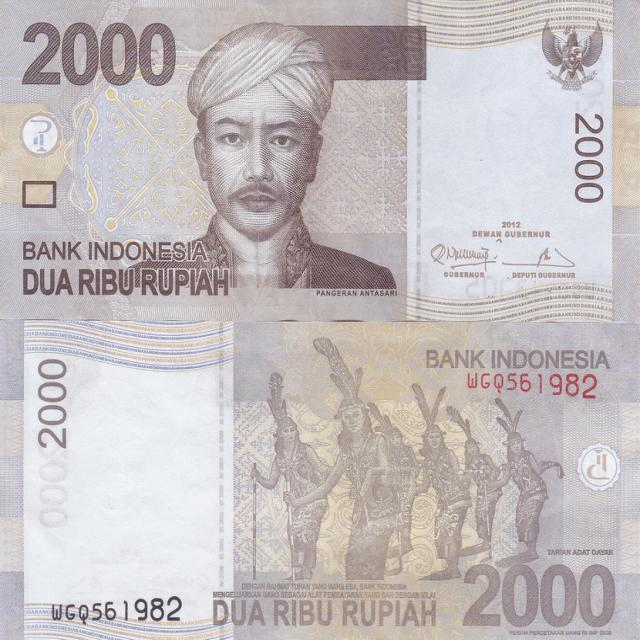dua ribu rupiah: (2, 317, 640, 640), (1, 0, 639, 318)
